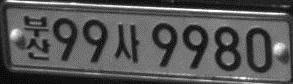0: (244, 26, 274, 73)
8: (213, 24, 241, 72)
9: (150, 21, 178, 67), (181, 23, 209, 69), (81, 18, 108, 63), (52, 16, 78, 61)
부산_V: (22, 14, 51, 61)
사: (113, 23, 140, 64)
